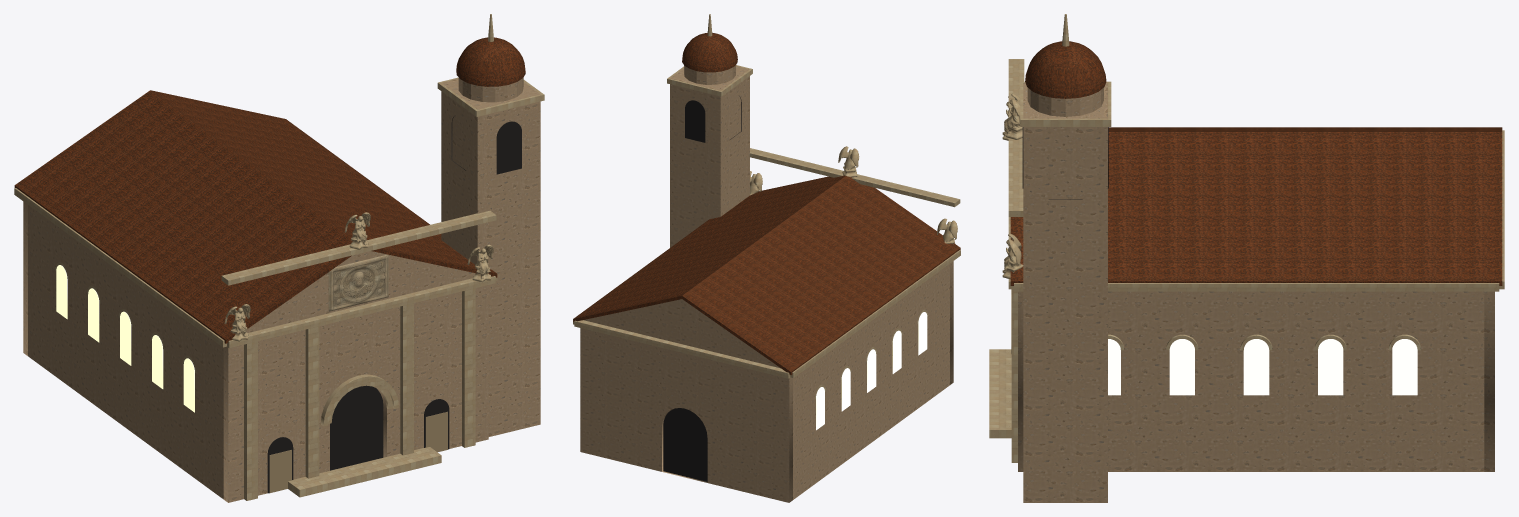
File: first-cathedral.glb
3 renders of one model, left to right at view 1: azimuth 30°, elevation 25°; view 2: azimuth 150°, elevation 25°; view 3: azimuth 270°, elevation 25°, orthographic. The views are drawn at different scales.
Parts seen in each view (by area): view 1: vibiana_wall, vibiana_roof, vibiana_trim, vibiana_shadow, vibiana_glass, merged_vibiana_relief_vibiana-pediment, merged_vibiana_trim, vibiana_bronze; view 2: vibiana_wall, vibiana_roof, vibiana_trim, vibiana_shadow, vibiana_glass, merged_vibiana_trim; view 3: vibiana_wall, vibiana_roof, vibiana_trim, vibiana_glass, merged_vibiana_trim.
Boxes of the visible parts, x1,y1,x2,y2 form: vibiana_wall: (23, 77, 540, 502); vibiana_roof: (14, 37, 525, 343); vibiana_trim: (14, 14, 544, 500); vibiana_shadow: (267, 116, 521, 493); vibiana_glass: (56, 265, 194, 412); merged_vibiana_relief_vibiana-pediment: (328, 254, 388, 311); merged_vibiana_trim: (224, 212, 493, 341); vibiana_bronze: (269, 411, 447, 492); vibiana_wall: (580, 65, 953, 502); vibiana_roof: (573, 33, 960, 374); vibiana_trim: (573, 14, 960, 398); vibiana_shadow: (663, 96, 741, 481); vibiana_glass: (816, 312, 927, 430); merged_vibiana_trim: (750, 146, 957, 244); vibiana_wall: (1018, 83, 1494, 502); vibiana_roof: (1010, 41, 1502, 285); vibiana_trim: (989, 14, 1504, 462); vibiana_glass: (1108, 339, 1417, 395); merged_vibiana_trim: (1002, 93, 1023, 279).
Bounding box in the file's own units: 20.55 × 24.52 × 24.3.
Materials: 9 (5 with a texture image).
